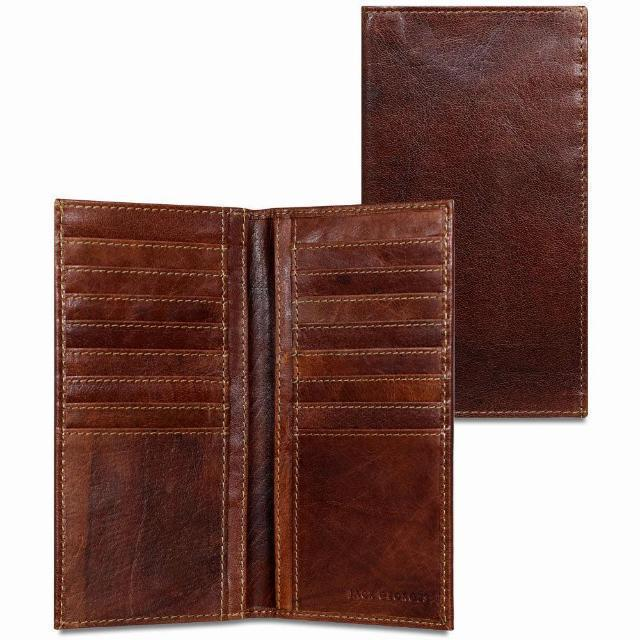wallet: (51, 198, 452, 632), (362, 2, 588, 418)
